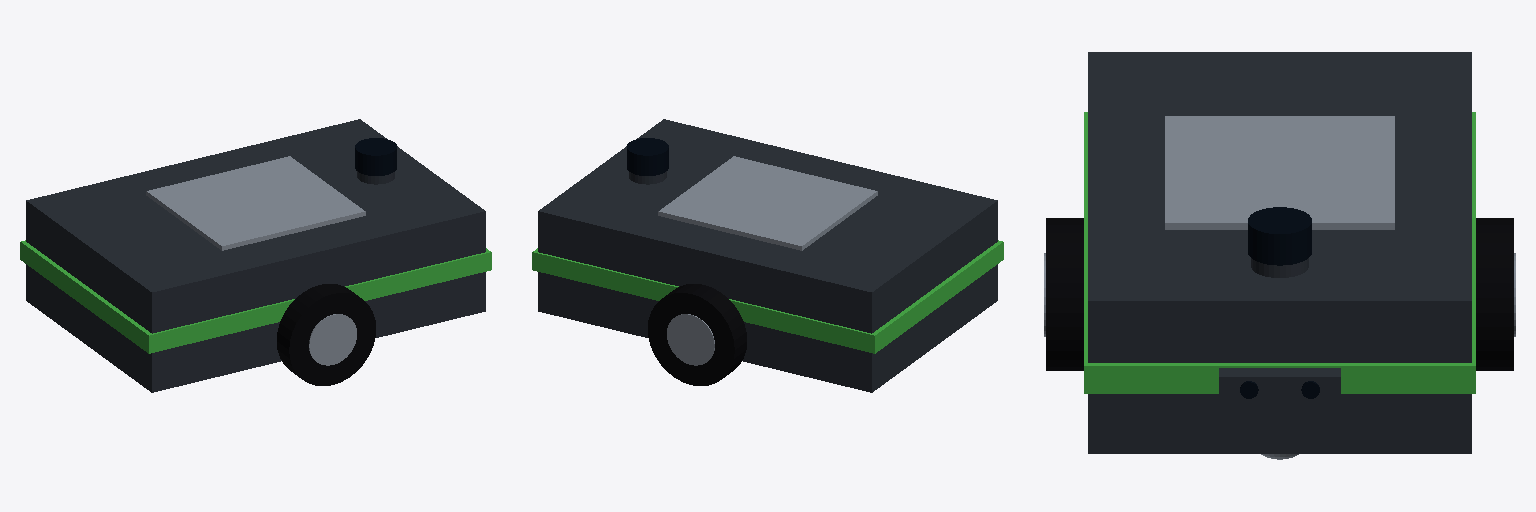
The robot description file, URDF, robot "Autonomous_mobile_robot_2":
<?xml version="1.0"?>
<robot name="Autonomous_mobile_robot_2">
  <robotlens_sim base="floating">
    <actuator joint="left_wheel_joint" type="velocity" gain="15" effort="30"/>
    <actuator joint="right_wheel_joint" type="velocity" gain="15" effort="30"/>
  </robotlens_sim>
  <link name="base_footprint"><inertial><origin xyz="0 0 0" rpy="0 0 0"/><mass value="0.001"/><inertia ixx="1e-06" ixy="0" ixz="0" iyy="1e-06" iyz="0" izz="1e-06"/></inertial></link>
  <joint name="base_footprint_joint" type="fixed"><parent link="base_footprint"/><child link="base_link"/><origin xyz="0 0 0.16" rpy="0 0 0"/></joint>
  <link name="base_link">
    <inertial><origin xyz="0 0 0" rpy="0 0 0"/><mass value="65.82854808840591"/><inertia ixx="1.6024093328534923" ixy="0" ixz="0" iyy="3.4504088825696955" iyz="0" izz="4.591272268391415"/></inertial>
    <visual><origin xyz="0 0 0" rpy="0 0 0"/><geometry><box size="0.7659403855021515 0.5 0.22"/></geometry><material name="material_1"><color rgba="0.2 0.22 0.25 1"/></material></visual>
    <visual><origin xyz="0 0 0" rpy="0 0 0"/><geometry><box size="0.7859403855021515 0.51 0.04"/></geometry><material name="material_2"><color rgba="0.3 0.7 0.3 1"/></material></visual>
    <visual><origin xyz="0 0 0.115" rpy="0 0 0"/><geometry><box size="0.32935436576592514 0.3 0.01"/></geometry><material name="material_3"><color rgba="0.55 0.58 0.62 1"/></material></visual>
    <collision><origin xyz="0 0 0" rpy="0 0 0"/><geometry><box size="0.6893463469519363 0.45 0.198"/></geometry></collision>
    <collision><origin xyz="0 0 0" rpy="0 0 0"/><geometry><box size="0.7073463469519363 0.459 0.036000000000000004"/></geometry></collision>
    <collision><origin xyz="0 0 0.115" rpy="0 0 0"/><geometry><box size="0.29641892918933266 0.27 0.009000000000000001"/></geometry></collision>
  </link>
  <link name="left_wheel">
    <inertial><origin xyz="0 0 0" rpy="0 0 0"/><mass value="1.3545840663932134"/><inertia ixx="0.0030985723127645655" ixy="0" ixz="0" iyy="0.005609607323722917" iyz="0" izz="0.0030985723127645655"/></inertial>
    <visual><origin xyz="0 0 0" rpy="-1.5707963267948963 0 0"/><geometry><cylinder radius="0.1" length="0.05"/></geometry><material name="material_4"><color rgba="0.07 0.07 0.08 1"/></material></visual>
    <visual><origin xyz="0 0 0" rpy="-1.5707963267948963 0 0"/><geometry><cylinder radius="0.05500000000000001" length="0.054000000000000006"/></geometry><material name="material_5"><color rgba="0.55 0.58 0.62 1"/></material></visual>
    <collision><origin xyz="0 0 0" rpy="-1.5707963267948963 0 0"/><geometry><cylinder radius="0.1" length="0.05"/></geometry></collision>
    <collision><origin xyz="0 0 0" rpy="-1.5707963267948963 0 0"/><geometry><cylinder radius="0.04950000000000001" length="0.0459"/></geometry></collision>
  </link>
  <link name="right_wheel">
    <inertial><origin xyz="0 0 0" rpy="0 0 0"/><mass value="1.3545840663932134"/><inertia ixx="0.0030985723127645655" ixy="0" ixz="0" iyy="0.005609607323722917" iyz="0" izz="0.0030985723127645655"/></inertial>
    <visual><origin xyz="0 0 0" rpy="-1.5707963267948963 0 0"/><geometry><cylinder radius="0.1" length="0.05"/></geometry><material name="material_6"><color rgba="0.07 0.07 0.08 1"/></material></visual>
    <visual><origin xyz="0 0 0" rpy="-1.5707963267948963 0 0"/><geometry><cylinder radius="0.05500000000000001" length="0.054000000000000006"/></geometry><material name="material_7"><color rgba="0.55 0.58 0.62 1"/></material></visual>
    <collision><origin xyz="0 0 0" rpy="-1.5707963267948963 0 0"/><geometry><cylinder radius="0.1" length="0.05"/></geometry></collision>
    <collision><origin xyz="0 0 0" rpy="-1.5707963267948963 0 0"/><geometry><cylinder radius="0.04950000000000001" length="0.0459"/></geometry></collision>
  </link>
  <link name="front_caster">
    <inertial><origin xyz="0 0 0" rpy="0 0 0"/><mass value="0.43835689493089586"/><inertia ixx="0.0006834011219108999" ixy="0" ixz="0" iyy="0.0006834011219108999" iyz="0" izz="0.00041875335677249567"/></inertial>
    <visual><origin xyz="0 0 0" rpy="0 0 0"/><geometry><sphere radius="0.05"/></geometry><material name="material_8"><color rgba="0.55 0.58 0.62 1"/></material></visual>
    <visual><origin xyz="0 0 0.05500000000000001" rpy="0 0 0"/><geometry><cylinder radius="0.04000000000000001" length="0.03"/></geometry><material name="material_9"><color rgba="0.55 0.58 0.62 1"/></material></visual>
    <collision><origin xyz="0 0 0" rpy="0 0 0"/><geometry><sphere radius="0.05"/></geometry></collision>
    <collision><origin xyz="0 0 0.05500000000000001" rpy="0 0 0"/><geometry><cylinder radius="0.03600000000000001" length="0.0255"/></geometry></collision>
  </link>
  <link name="rear_caster">
    <inertial><origin xyz="0 0 0" rpy="0 0 0"/><mass value="0.43835689493089586"/><inertia ixx="0.0006834011219108999" ixy="0" ixz="0" iyy="0.0006834011219108999" iyz="0" izz="0.00041875335677249567"/></inertial>
    <visual><origin xyz="0 0 0" rpy="0 0 0"/><geometry><sphere radius="0.05"/></geometry><material name="material_10"><color rgba="0.55 0.58 0.62 1"/></material></visual>
    <visual><origin xyz="0 0 0.05500000000000001" rpy="0 0 0"/><geometry><cylinder radius="0.04000000000000001" length="0.03"/></geometry><material name="material_11"><color rgba="0.55 0.58 0.62 1"/></material></visual>
    <collision><origin xyz="0 0 0" rpy="0 0 0"/><geometry><sphere radius="0.05"/></geometry></collision>
    <collision><origin xyz="0 0 0.05500000000000001" rpy="0 0 0"/><geometry><cylinder radius="0.03600000000000001" length="0.0255"/></geometry></collision>
  </link>
  <link name="lidar_link">
    <inertial><origin xyz="0 0 0" rpy="0 0 0"/><mass value="0.22107073344046016"/><inertia ixx="0.00042077856562707633" ixy="0" ixz="0" iyy="0.00042077856562707633" iyz="0" izz="0.00018554855052757584"/></inertial>
    <visual><origin xyz="0 0 0.01" rpy="0 0 0"/><geometry><cylinder radius="0.038" length="0.02"/></geometry><material name="material_12"><color rgba="0.2 0.22 0.25 1"/></material></visual>
    <visual><origin xyz="0 0 0.0425" rpy="0 0 0"/><geometry><cylinder radius="0.042" length="0.045"/></geometry><material name="material_13"><color rgba="0.05 0.08 0.12 1"/></material></visual>
    <collision><origin xyz="0 0 0.01" rpy="0 0 0"/><geometry><cylinder radius="0.0342" length="0.017"/></geometry></collision>
    <collision><origin xyz="0 0 0.0425" rpy="0 0 0"/><geometry><cylinder radius="0.0378" length="0.03825"/></geometry></collision>
  </link>
  <link name="camera_link">
    <inertial><origin xyz="0 0 0" rpy="0 0 0"/><mass value="0.13740000000000005"/><inertia ixx="0.0003015120833333333" ixy="0" ixz="0" iyy="2.9823333333333343e-05" iyz="0" izz="0.0003046045833333334"/></inertial>
    <visual><origin xyz="0 0 0" rpy="0 0 0"/><geometry><box size="0.035 0.16 0.035"/></geometry><material name="material_14"><color rgba="0.2 0.22 0.25 1"/></material></visual>
    <visual><origin xyz="0.0185 0.04 0" rpy="0 1.5707963267948966 0"/><geometry><cylinder radius="0.012" length="0.006"/></geometry><material name="material_15"><color rgba="0.05 0.08 0.12 1"/></material></visual>
    <visual><origin xyz="0.0185 -0.04 0" rpy="0 1.5707963267948966 0"/><geometry><cylinder radius="0.012" length="0.006"/></geometry><material name="material_16"><color rgba="0.05 0.08 0.12 1"/></material></visual>
    <collision><origin xyz="0 0 0" rpy="0 0 0"/><geometry><box size="0.03150000000000001 0.14400000000000002 0.03150000000000001"/></geometry></collision>
    <collision><origin xyz="0.0185 0.04 0" rpy="0 1.5707963267948966 0"/><geometry><cylinder radius="0.0108" length="0.0051"/></geometry></collision>
    <collision><origin xyz="0.0185 -0.04 0" rpy="0 1.5707963267948966 0"/><geometry><cylinder radius="0.0108" length="0.0051"/></geometry></collision>
  </link>
  <link name="imu_link">
    <inertial><origin xyz="0 0 0" rpy="0 0 0"/><mass value="0.02"/><inertia ixx="1e-06" ixy="0" ixz="0" iyy="1e-06" iyz="0" izz="1.0530000000000001e-06"/></inertial>
    <visual><origin xyz="0 0 0" rpy="0 0 0"/><geometry><box size="0.03 0.03 0.012"/></geometry><material name="material_17"><color rgba="0.1 0.4 0.2 1"/></material></visual>
    <collision><origin xyz="0 0 0" rpy="0 0 0"/><geometry><box size="0.027 0.027 0.0108"/></geometry></collision>
  </link>
  <joint name="left_wheel_joint" type="continuous"><parent link="base_link"/><child link="left_wheel"/><origin xyz="0 0.28 -0.06" rpy="0 0 0"/><axis xyz="0 1 0"/><limit effort="30" velocity="3"/><dynamics damping="1.5"/></joint>
  <joint name="right_wheel_joint" type="continuous"><parent link="base_link"/><child link="right_wheel"/><origin xyz="0 -0.28 -0.06" rpy="0 0 0"/><axis xyz="0 1 0"/><limit effort="30" velocity="3"/><dynamics damping="1.5"/></joint>
  <joint name="front_caster_joint" type="fixed"><parent link="base_link"/><child link="front_caster"/><origin xyz="0.28339794263579604 0 -0.11" rpy="0 0 0"/></joint>
  <joint name="rear_caster_joint" type="fixed"><parent link="base_link"/><child link="rear_caster"/><origin xyz="-0.28339794263579604 0 -0.11" rpy="0 0 0"/></joint>
  <joint name="lidar_link_joint" type="fixed"><parent link="base_link"/><child link="lidar_link"/><origin xyz="0.27573853878077453 0 0.11" rpy="0 0 0"/></joint>
  <joint name="camera_link_joint" type="fixed"><parent link="base_link"/><child link="camera_link"/><origin xyz="0.40297019275107576 0 0" rpy="0 0 0"/></joint>
  <joint name="imu_link_joint" type="fixed"><parent link="base_link"/><child link="imu_link"/><origin xyz="0 0 0" rpy="0 0 0"/></joint>
  <gazebo reference="lidar_link">
      <sensor name="lidar" type="gpu_lidar">
        <always_on>1</always_on>
        <update_rate>10</update_rate>
        <topic>Autonomous_mobile_robot_2/lidar_link</topic>
        <lidar>
          <scan><horizontal><samples>360</samples><resolution>1</resolution><min_angle>-3.14159</min_angle><max_angle>3.14159</max_angle></horizontal></scan>
          <range><min>0.1</min><max>12</max><resolution>0.01</resolution></range>
        </lidar>
      </sensor>
  </gazebo>
  <gazebo reference="camera_link">
      <sensor name="camera" type="camera">
        <always_on>1</always_on>
        <update_rate>30</update_rate>
        <topic>Autonomous_mobile_robot_2/camera_link</topic>
        <camera>
          <horizontal_fov>1.047</horizontal_fov>
          <image><width>640</width><height>480</height></image>
          <clip><near>0.05</near><far>50</far></clip>
        </camera>
      </sensor>
  </gazebo>
  <gazebo reference="imu_link">
      <sensor name="imu" type="imu">
        <always_on>1</always_on>
        <update_rate>100</update_rate>
        <topic>Autonomous_mobile_robot_2/imu_link</topic>
      </sensor>
  </gazebo>
</robot>

--- What the picture shows (computed from the rendered views, not written in the file) ---
The picture shows the robot from 3 angles, left to right: view 1: azimuth 30°, elevation 25°; view 2: azimuth 150°, elevation 25°; view 3: azimuth 270°, elevation 25°; orthographic projection.
Robot: Autonomous_mobile_robot_2 — 9 links, 8 joints (2 continuous, 6 fixed); root link base_footprint; default pose: every joint at zero.
Visible links, largest first — view 1: base_link, right_wheel, lidar_link; view 2: base_link, left_wheel, lidar_link; view 3: base_link, left_wheel, right_wheel, lidar_link, camera_link.
Link boxes in pixels (x1,y1,x2,y2): base_link: (20, 119, 491, 392); right_wheel: (277, 284, 375, 385); lidar_link: (355, 138, 396, 184); base_link: (532, 119, 1003, 392); left_wheel: (648, 284, 746, 385); lidar_link: (627, 138, 668, 184); base_link: (1084, 52, 1475, 453); left_wheel: (1476, 218, 1515, 370); right_wheel: (1044, 218, 1083, 370); lidar_link: (1248, 207, 1311, 277); camera_link: (1219, 368, 1340, 400).
Bounding box of the posed robot: 0.8174 × 0.614 × 0.335 m (x, y, z).
Geometry: primitives only (box / cylinder / sphere), no mesh files.
